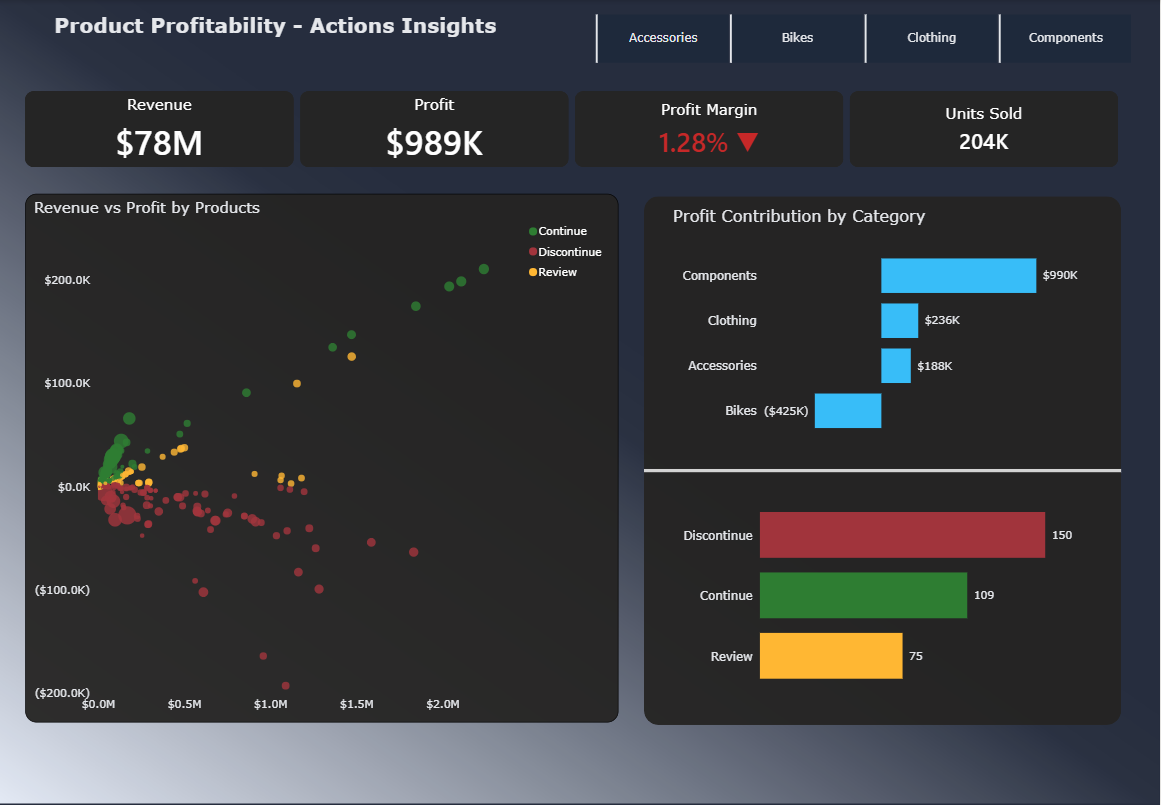

This screenshot's page, from the dashboard's own definition file:
{"tool":"powerbi","page":{"name":"Product profitability Overview","canvas":[1440,1000],"ordinal":0},"visuals":[{"type":"shape","box":[800,243,592,656],"z":2500},{"type":"barChart","title":"Profit Contribution by Category","fields":{"Category":["vw_ProductRecommendation.Category"],"Y":["Measures (2).Total Profit"]},"box":[832,256,512,304],"z":3000},{"type":"scatterChart","title":"Revenue vs Profit by Products","fields":{"Size":["Sum(vw_ProductRecommendation.UnitsSold)"],"Series":["vw_ProductRecommendation.Recommendation"],"Y":["Measures (2).Total Profit"],"X":["Measures (2).Total Revenue"],"Category":["vw_ProductRecommendation.ProductName"]},"box":[32,240,736,656],"z":4000},{"type":"barChart","title":"Product Actions Required","fields":{"Category":["vw_ProductRecommendation.Recommendation"],"Y":["Measures (2).Category_count"]},"box":[832,592,512,288],"z":5000},{"type":"slicer","fields":{"Values":["vw_ProductProfitability_Base.Category"]},"box":[720,16,704,64],"z":6000},{"type":"textbox","title":"Product Profitability - Actions Insights","box":[64,16,560,80],"z":7000},{"type":"cardVisual","fields":{"Data":["Measures (2).Total Revenue","Measures (2).Total Profit","Measures (2).Profit Margin KPI","Measures (2).Units Sold"]},"box":[16,96,1392,128],"z":8000},{"type":"shape","box":[800,560,592,48],"z":8501}]}

Visuals, with their boxes in screenshot pixels (x1, y1, x2, y2), scaled from the page's 1440x1000 canvas onto the 1161x805 screenshot:
shape: detection(645, 196, 1122, 724)
"Profit Contribution by Category" barChart: detection(671, 206, 1084, 451)
"Revenue vs Profit by Products" scatterChart: detection(26, 193, 619, 721)
"Product Actions Required" barChart: detection(671, 477, 1084, 708)
slicer - vw_ProductProfitability_Base.Category: detection(580, 13, 1148, 64)
"Product Profitability - Actions Insights" textbox: detection(52, 13, 503, 77)
cardVisual - Measures (2).Total Revenue x Measures (2).Total Profit: detection(13, 77, 1135, 180)
shape: detection(645, 451, 1122, 489)
